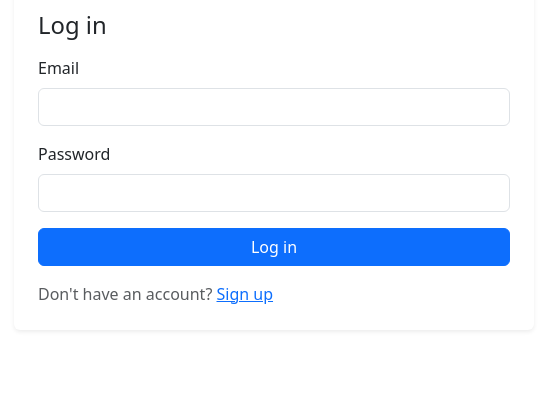
Test: LoginPage › shows validation error when email is empty
This screenshot has width=549, height=399.
Click the button "Log in" at coordinates (274, 247), box [38,228,510,266]
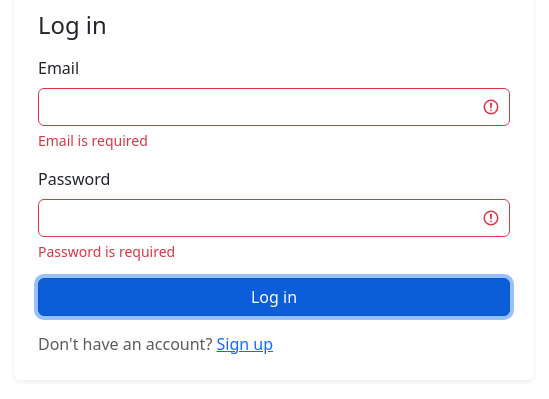
Now the text "Email is required" is shown, box [38,131,148,150]
